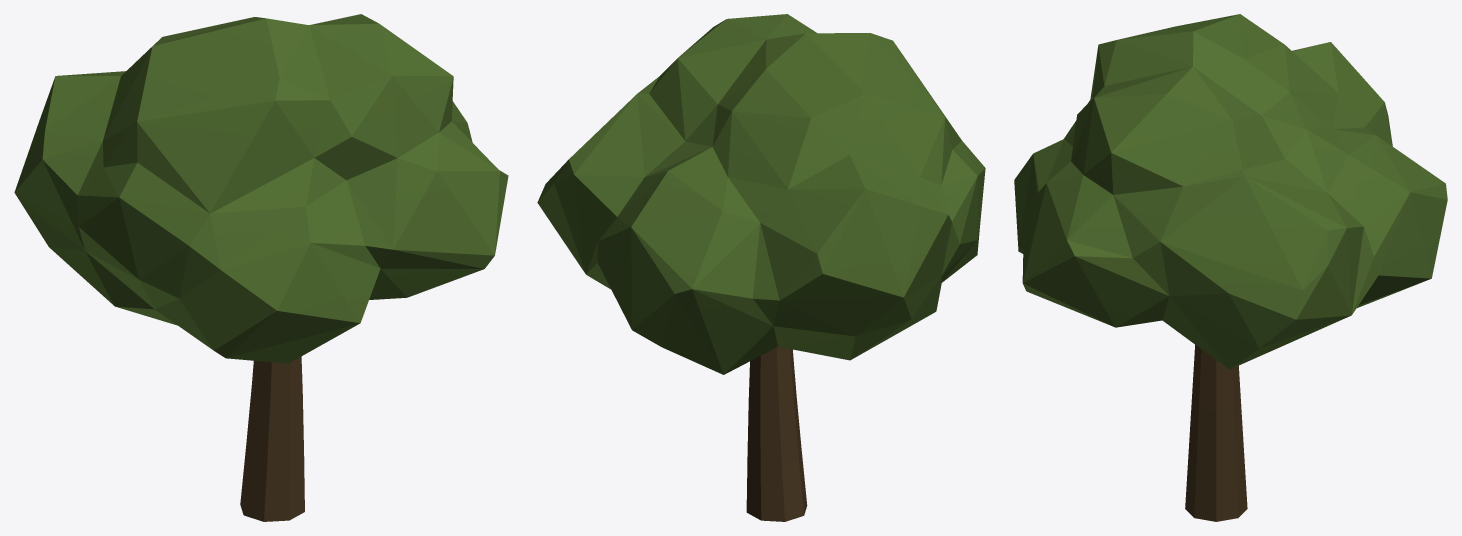
File: Oak_A.glb
3 views of the same model, side by side, from view 1: azimuth 30°, elevation 25°; view 2: azimuth 150°, elevation 25°; view 3: azimuth 270°, elevation 25° (orthographic). The views are drawn at different scales.
Visible parts, largest first — view 1: Oak_A_LOD0.001; view 2: Oak_A_LOD0.001; view 3: Oak_A_LOD0.001.
Part boxes in pixels (bbox=[...]): Oak_A_LOD0.001: bbox=[14, 14, 508, 521]; Oak_A_LOD0.001: bbox=[537, 14, 985, 521]; Oak_A_LOD0.001: bbox=[1014, 14, 1447, 521].
Size of what is drawn, in the model's own units: 4.78 by 5.48 by 4.59.
